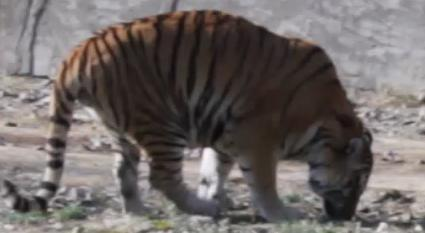tiger: (35, 11, 370, 220)
